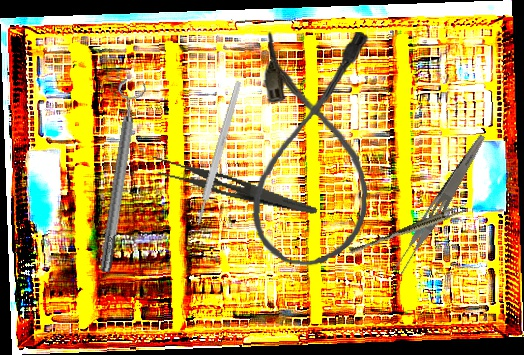Cannula: (249, 27, 377, 269)
Dressing Forceps: (389, 129, 489, 279), (146, 153, 322, 216)
Fixation Ring: (89, 77, 149, 275)
Scalpel Handle: (194, 80, 243, 226)
Tissue Forceps: (348, 200, 469, 259)
